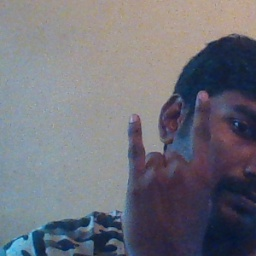V: (121, 88, 221, 256)
